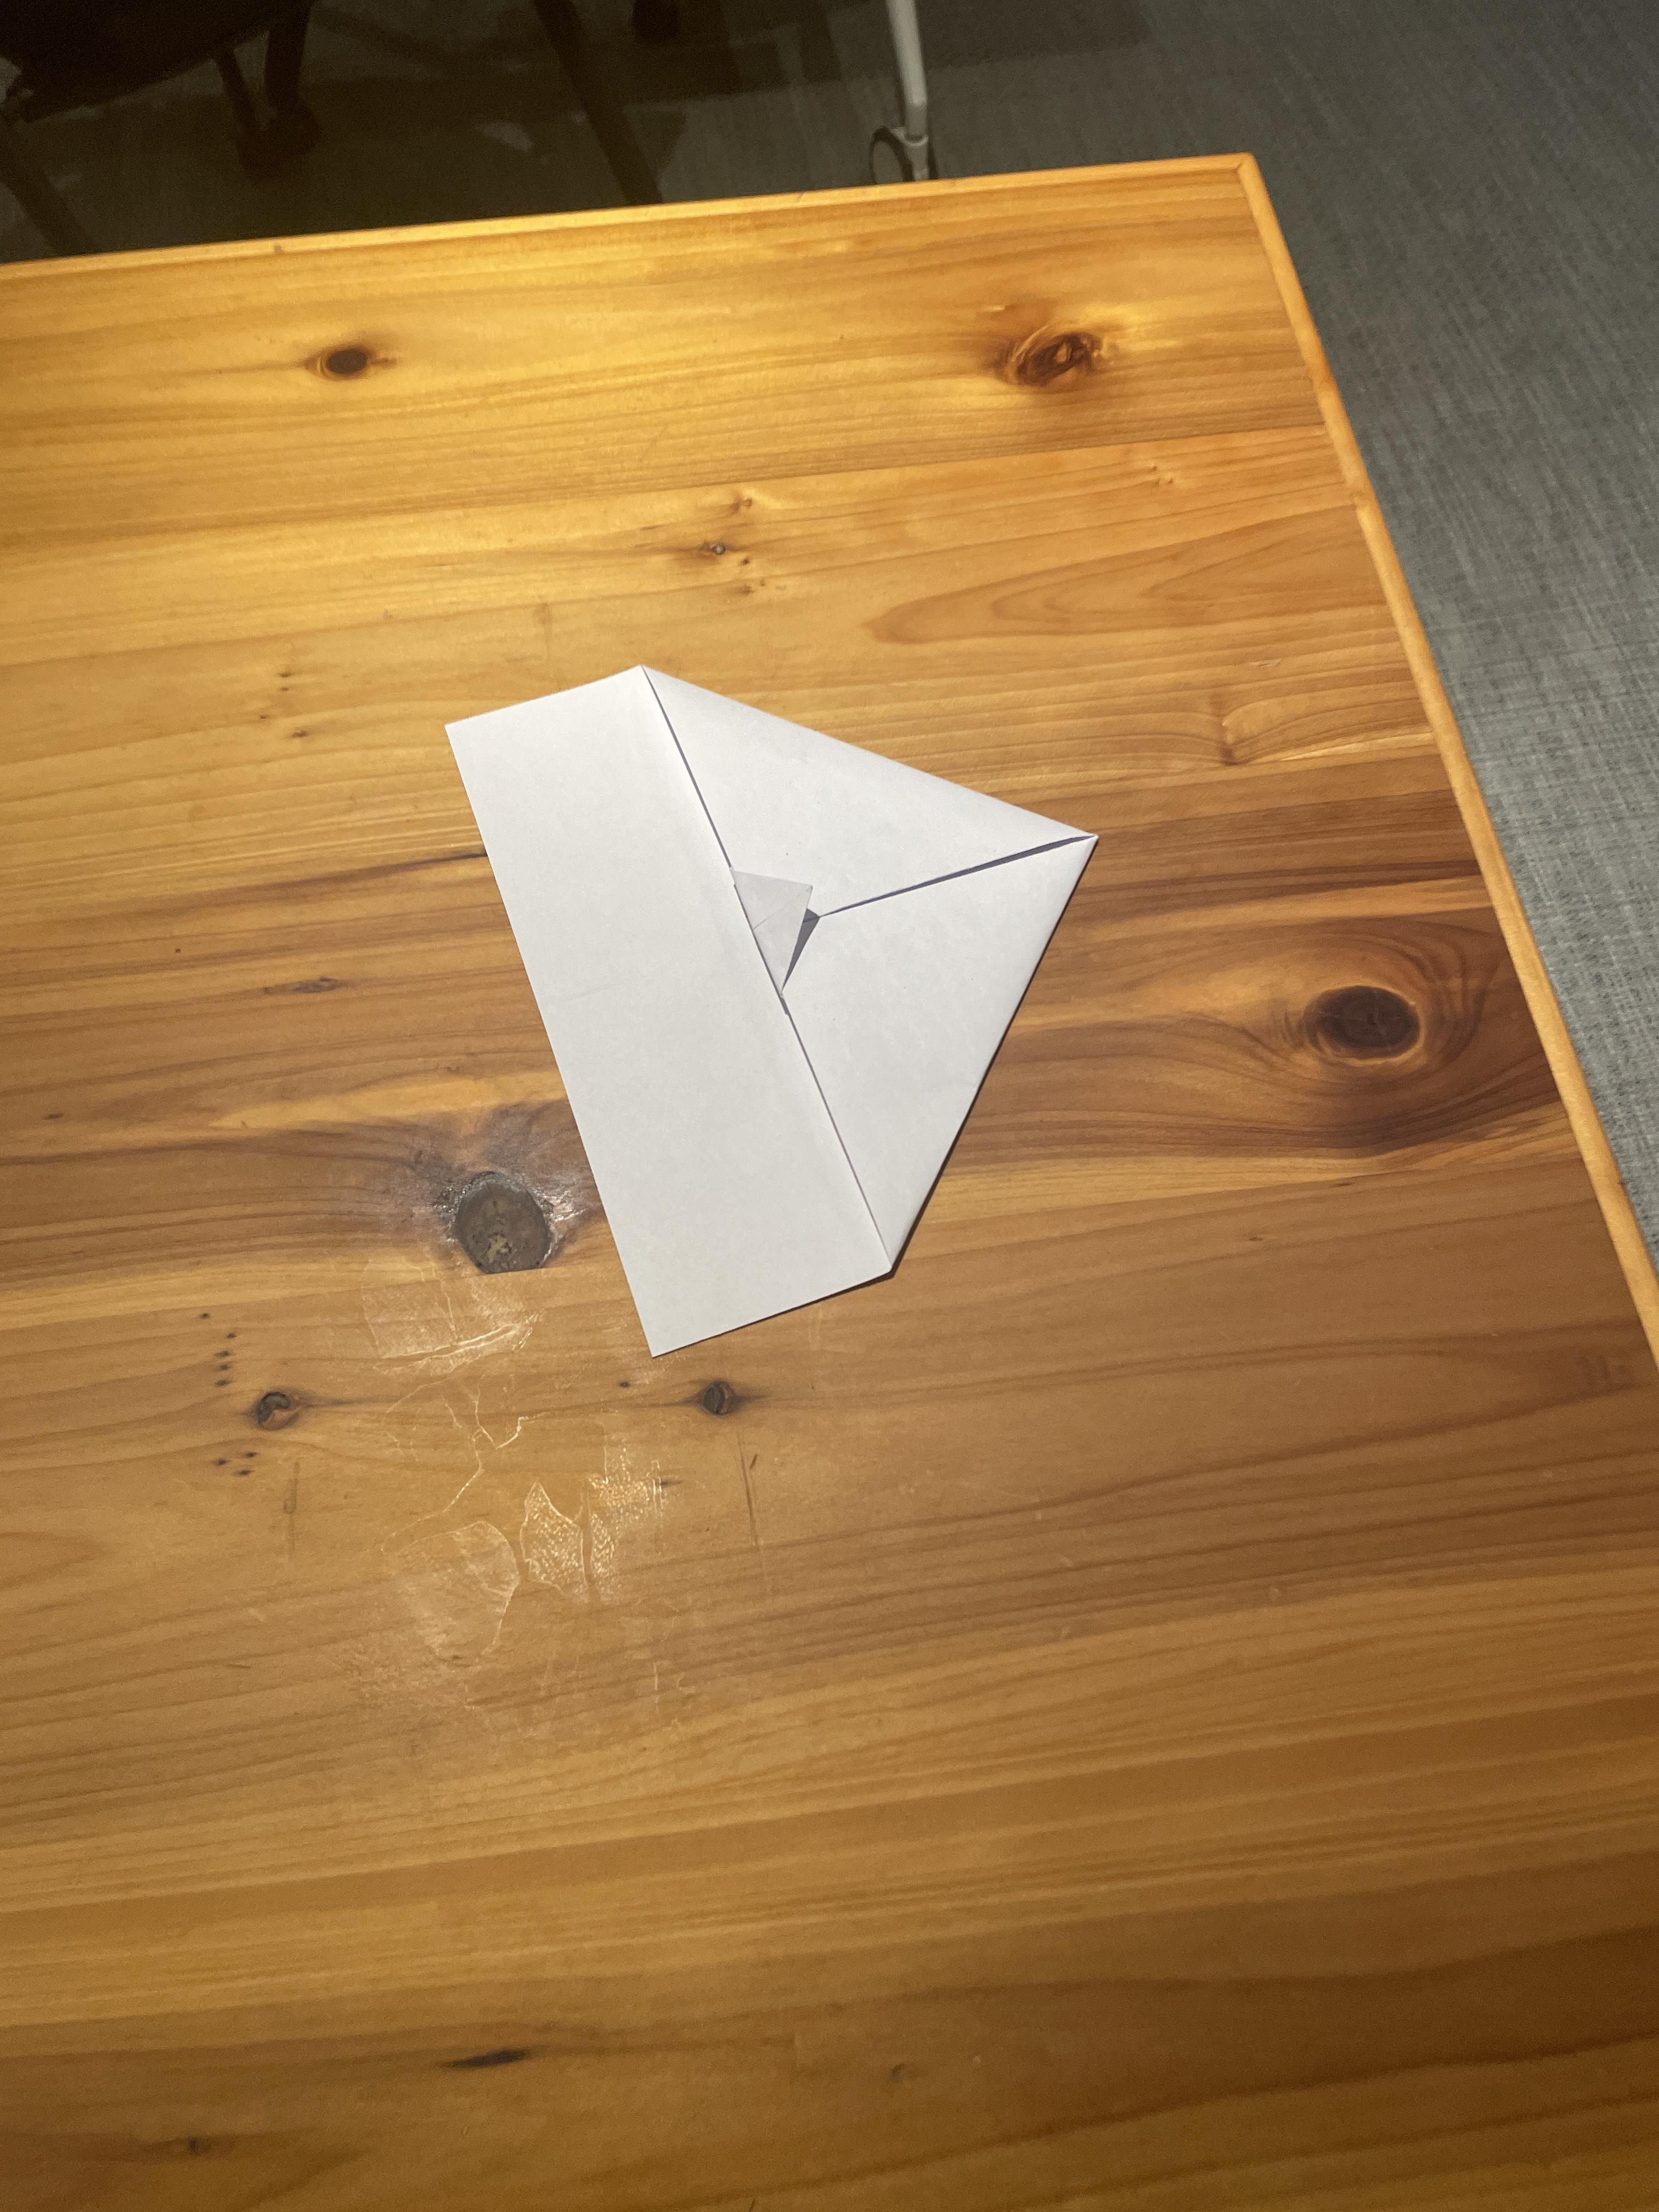shape_2: (373, 572, 1158, 1450)
